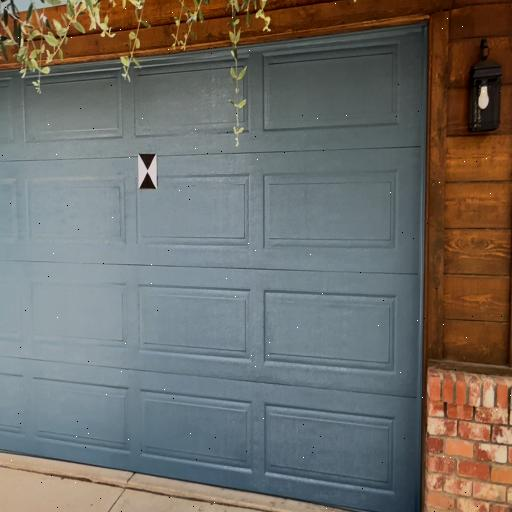target: (138, 153, 157, 188)
